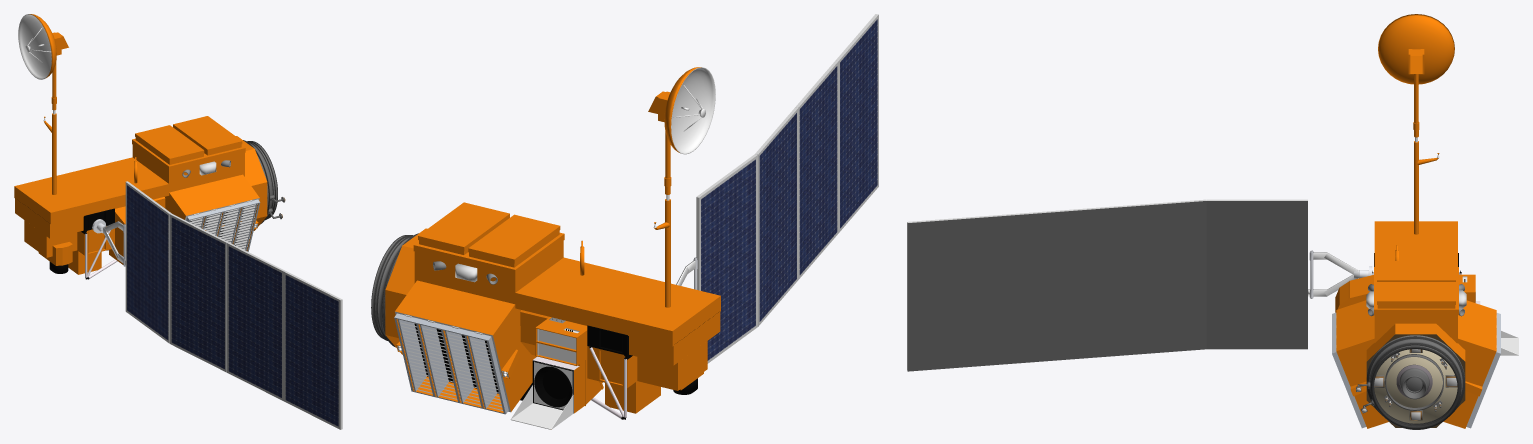
Rendered from Landsat_4_5.glb.
The picture shows the model from 3 angles, left to right: view 1: azimuth 30°, elevation 25°; view 2: azimuth 150°, elevation 25°; view 3: azimuth 270°, elevation 25°; orthographic projection. The views are drawn at different scales.
Parts seen in each view (by area): view 1: Cube.022, Cube.020, Cube.019, Cube.018, Cube.017, TM_Panels_1.005, Cube.021, Sphere.001, LDCM-2014-composite.001, Solar Panel.002, Cube.013, TM_Body.002; view 2: Cube.022, TM_Panels_1.004, Cube.017, Cube.018, Cube.019, Cube.020, Cube.021, TM_Body.002, Sphere.001, LDCM-2014-composite.001; view 3: Cube.017, Cube.020, Cube.018, Cube.019, Cube.022, LDCM-2014-composite.001, Sphere.001, TM_Panels_1.004, TM_Panels_1.005, TM_Body.002, Solar Panel.002.
Part boxes in pixels (x1,y1,x2,y2): Cube.022: [14, 116, 245, 224]; Cube.020: [283, 271, 342, 429]; Cube.019: [227, 242, 285, 400]; Cube.018: [170, 213, 228, 372]; Cube.017: [125, 181, 171, 343]; TM_Panels_1.005: [165, 174, 260, 251]; Cube.021: [15, 198, 114, 274]; Sphere.001: [18, 14, 68, 194]; LDCM-2014-composite.001: [153, 136, 285, 230]; Solar Panel.002: [92, 219, 125, 266]; Cube.013: [38, 242, 72, 265]; TM_Body.002: [109, 206, 125, 264]; Cube.022: [413, 202, 720, 346]; TM_Panels_1.004: [394, 280, 532, 414]; Cube.017: [696, 154, 757, 363]; Cube.018: [755, 107, 798, 326]; Cube.019: [795, 60, 838, 279]; Cube.020: [835, 14, 878, 232]; Cube.021: [587, 311, 720, 413]; TM_Body.002: [510, 317, 603, 429]; Sphere.001: [648, 67, 715, 307]; LDCM-2014-composite.001: [371, 228, 549, 376]; Cube.017: [1206, 199, 1307, 349]; Cube.020: [907, 214, 1007, 371]; Cube.018: [1106, 199, 1206, 356]; Cube.019: [1007, 207, 1106, 364]; Cube.022: [1374, 221, 1458, 343]; LDCM-2014-composite.001: [1356, 323, 1465, 429]; Sphere.001: [1378, 14, 1454, 234]; TM_Panels_1.004: [1443, 300, 1500, 428]; TM_Panels_1.005: [1332, 300, 1388, 428]; TM_Body.002: [1335, 274, 1518, 355]; Solar Panel.002: [1308, 250, 1372, 298].
Bounding box in the file's own units: 1.59 × 1.79 × 3.17.
Materials: 27 (3 with a texture image).
